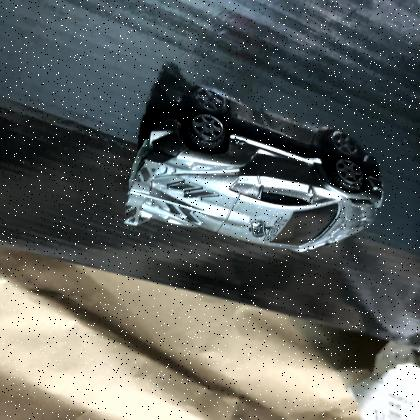Car: (124, 111, 384, 251)
